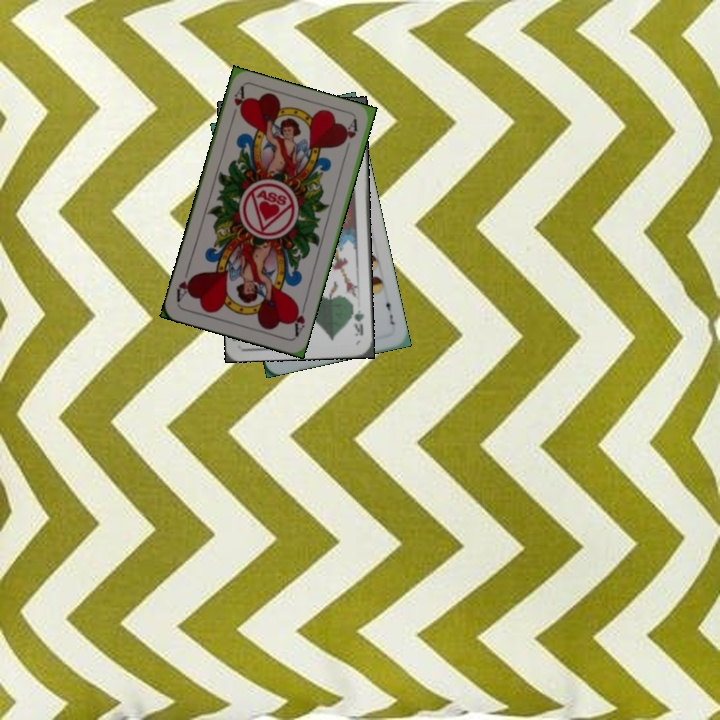E7: (382, 293, 397, 327)
GK: (348, 301, 367, 338)
HA: (288, 299, 309, 339), (227, 84, 248, 124)
